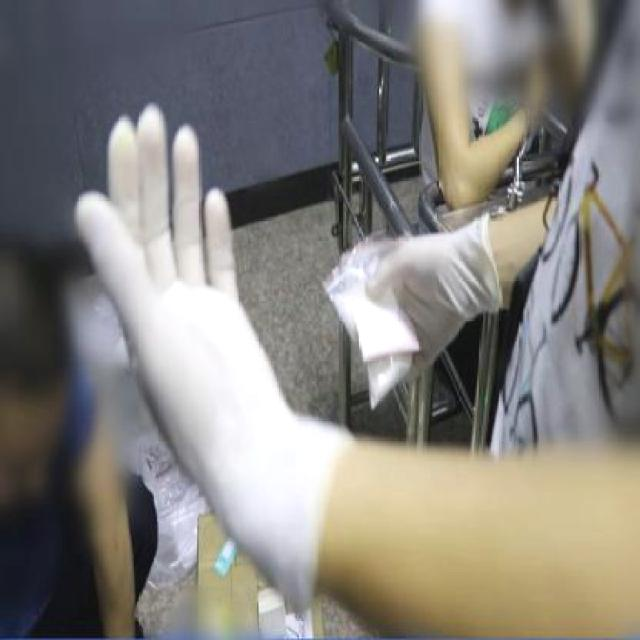hand_glove: (76, 94, 282, 535), (362, 220, 486, 409)
